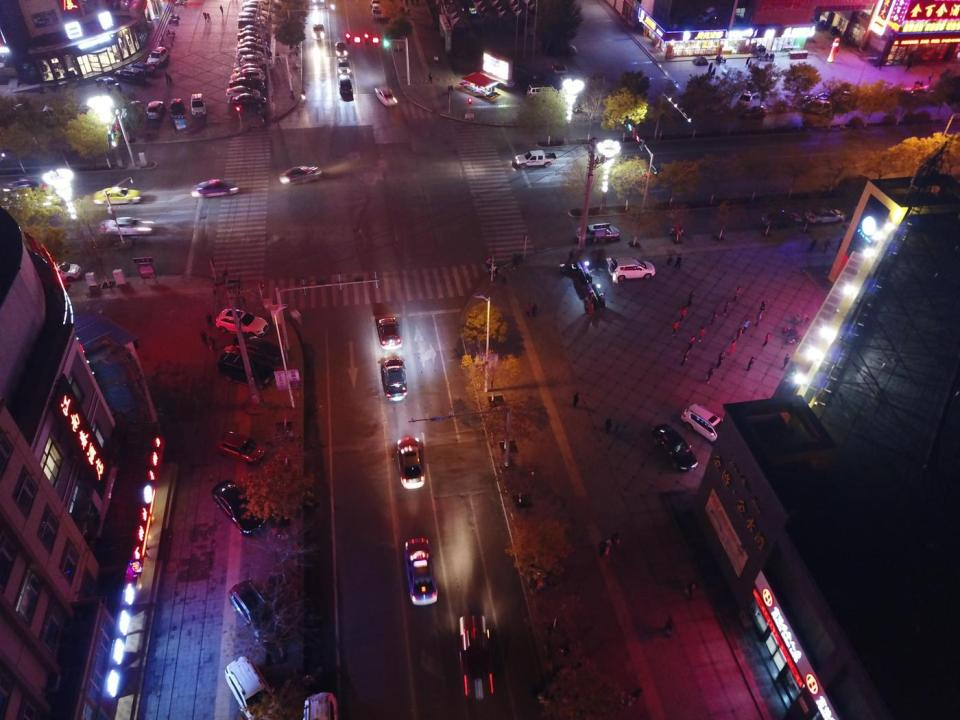car: (224, 655, 286, 720), (228, 578, 282, 642), (212, 480, 267, 536), (458, 614, 493, 698), (652, 424, 699, 473), (404, 538, 437, 606), (217, 351, 276, 389), (681, 402, 730, 444), (216, 430, 269, 466), (234, 337, 286, 367), (396, 436, 424, 490), (216, 309, 268, 336), (605, 258, 655, 280), (98, 218, 154, 237), (383, 357, 407, 399), (3, 180, 50, 199), (93, 187, 142, 204), (36, 262, 81, 280), (191, 180, 239, 196), (577, 224, 619, 242), (278, 166, 322, 182), (807, 206, 846, 224), (762, 210, 800, 228), (897, 84, 935, 102), (516, 151, 558, 167), (378, 317, 398, 349), (115, 68, 146, 84), (240, 55, 272, 70), (95, 76, 121, 94), (226, 86, 260, 99), (376, 86, 397, 106), (237, 43, 269, 56), (230, 78, 263, 90), (802, 94, 830, 108), (128, 60, 154, 75), (147, 47, 168, 65), (237, 12, 266, 25), (232, 93, 266, 104), (239, 25, 267, 38), (243, 8, 271, 21), (232, 71, 264, 82), (237, 18, 264, 31), (242, 2, 270, 14), (234, 68, 262, 79), (148, 100, 164, 119), (237, 48, 262, 60), (169, 98, 184, 118), (238, 37, 265, 48), (550, 44, 577, 55), (822, 89, 844, 102), (339, 75, 352, 96), (235, 64, 259, 75), (128, 100, 141, 120), (843, 90, 860, 103), (586, 74, 606, 85), (338, 58, 350, 76), (238, 32, 261, 40), (372, 6, 384, 21), (336, 42, 347, 57), (247, 1, 270, 7), (371, 1, 382, 10), (468, 5, 476, 13)
van: (526, 83, 558, 101), (738, 91, 764, 111), (802, 98, 834, 114), (191, 93, 206, 116), (811, 16, 822, 31), (314, 24, 324, 40)
